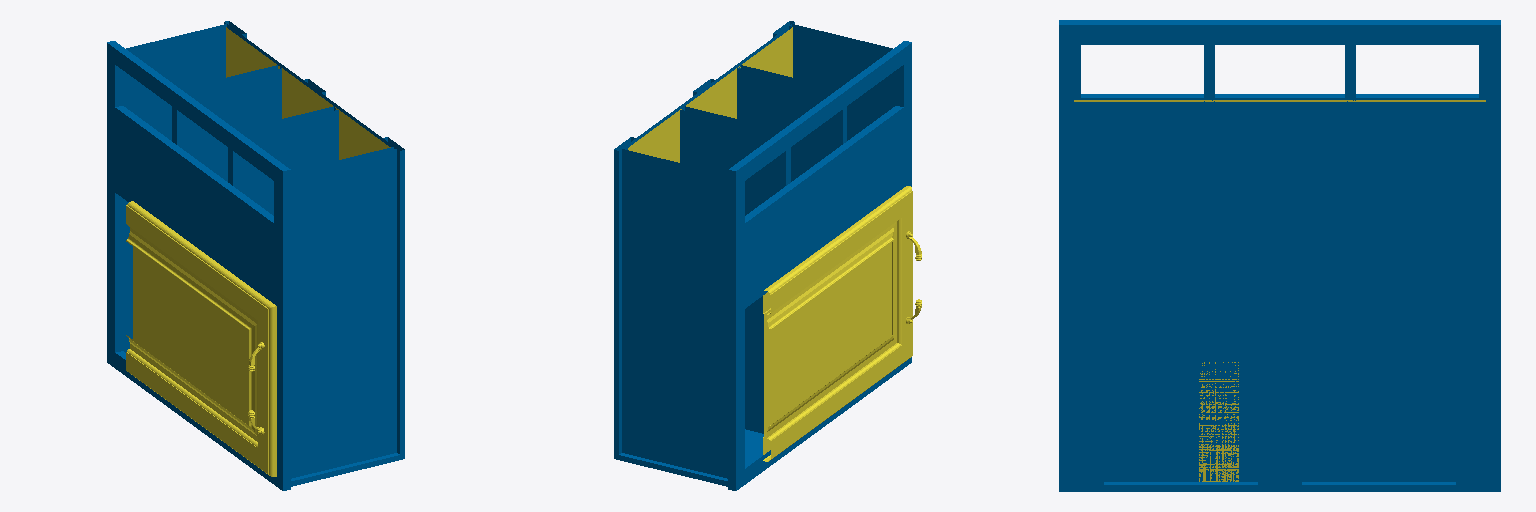
URDF robot description (partnet_12b0773858754105c59350d819542ec7):
<?xml version='1.0' encoding='us-ascii'?>
<robot name="partnet_12b0773858754105c59350d819542ec7">
	<link name="base" />
	<link name="link_0">
		<visual name="cabinet_door_surface-23">
			<origin xyz="-0.47700135126485127 -0.41883869171142574 -0.23243793422609332" />
			<geometry>
				<mesh filename="textured_objs/original-63.obj" scale="0.7 0.7 0.7" />
			</geometry>
		</visual>
		<visual name="cabinet_door_surface-23">
			<origin xyz="-0.47700135126485127 -0.41883869171142574 -0.23243793422609332" />
			<geometry>
				<mesh filename="textured_objs/original-58.obj" scale="0.7 0.7 0.7" />
			</geometry>
		</visual>
		<visual name="cabinet_door_surface-23">
			<origin xyz="-0.47700135126485127 -0.41883869171142574 -0.23243793422609332" />
			<geometry>
				<mesh filename="textured_objs/original-60.obj" scale="0.7 0.7 0.7" />
			</geometry>
		</visual>
		<visual name="cabinet_door_surface-23">
			<origin xyz="-0.47700135126485127 -0.41883869171142574 -0.23243793422609332" />
			<geometry>
				<mesh filename="textured_objs/original-59.obj" scale="0.7 0.7 0.7" />
			</geometry>
		</visual>
		<visual name="cabinet_door_surface-23">
			<origin xyz="-0.47700135126485127 -0.41883869171142574 -0.23243793422609332" />
			<geometry>
				<mesh filename="textured_objs/original-61.obj" scale="0.7 0.7 0.7" />
			</geometry>
		</visual>
		<visual name="cabinet_door_surface-23">
			<origin xyz="-0.47700135126485127 -0.41883869171142574 -0.23243793422609332" />
			<geometry>
				<mesh filename="textured_objs/original-64.obj" scale="0.7 0.7 0.7" />
			</geometry>
		</visual>
		<visual name="handle-24">
			<origin xyz="-0.47700135126485127 -0.41883869171142574 -0.23243793422609332" />
			<geometry>
				<mesh filename="textured_objs/original-68.obj" scale="0.7 0.7 0.7" />
			</geometry>
		</visual>
		<visual name="handle-24">
			<origin xyz="-0.47700135126485127 -0.41883869171142574 -0.23243793422609332" />
			<geometry>
				<mesh filename="textured_objs/original-67.obj" scale="0.7 0.7 0.7" />
			</geometry>
		</visual>
		<visual name="handle-24">
			<origin xyz="-0.47700135126485127 -0.41883869171142574 -0.23243793422609332" />
			<geometry>
				<mesh filename="textured_objs/original-66.obj" scale="0.7 0.7 0.7" />
			</geometry>
		</visual>
		<collision>
			<origin xyz="-0.47700135126485127 -0.41883869171142574 -0.23243793422609332" />
			<geometry>
				<mesh filename="textured_objs/original-63.obj" scale="0.7 0.7 0.7" />
			</geometry>
		</collision>
		<collision>
			<origin xyz="-0.47700135126485127 -0.41883869171142574 -0.23243793422609332" />
			<geometry>
				<mesh filename="textured_objs/original-58.obj" scale="0.7 0.7 0.7" />
			</geometry>
		</collision>
		<collision>
			<origin xyz="-0.47700135126485127 -0.41883869171142574 -0.23243793422609332" />
			<geometry>
				<mesh filename="textured_objs/original-60.obj" scale="0.7 0.7 0.7" />
			</geometry>
		</collision>
		<collision>
			<origin xyz="-0.47700135126485127 -0.41883869171142574 -0.23243793422609332" />
			<geometry>
				<mesh filename="textured_objs/original-59.obj" scale="0.7 0.7 0.7" />
			</geometry>
		</collision>
		<collision>
			<origin xyz="-0.47700135126485127 -0.41883869171142574 -0.23243793422609332" />
			<geometry>
				<mesh filename="textured_objs/original-61.obj" scale="0.7 0.7 0.7" />
			</geometry>
		</collision>
		<collision>
			<origin xyz="-0.47700135126485127 -0.41883869171142574 -0.23243793422609332" />
			<geometry>
				<mesh filename="textured_objs/original-64.obj" scale="0.7 0.7 0.7" />
			</geometry>
		</collision>
		<collision>
			<origin xyz="-0.47700135126485127 -0.41883869171142574 -0.23243793422609332" />
			<geometry>
				<mesh filename="textured_objs/original-68.obj" scale="0.7 0.7 0.7" />
			</geometry>
		</collision>
		<collision>
			<origin xyz="-0.47700135126485127 -0.41883869171142574 -0.23243793422609332" />
			<geometry>
				<mesh filename="textured_objs/original-67.obj" scale="0.7 0.7 0.7" />
			</geometry>
		</collision>
		<collision>
			<origin xyz="-0.47700135126485127 -0.41883869171142574 -0.23243793422609332" />
			<geometry>
				<mesh filename="textured_objs/original-66.obj" scale="0.7 0.7 0.7" />
			</geometry>
		</collision>
	</link>
	<joint name="joint_0" type="revolute">
		<origin xyz="0.47700135126485127 0.41883869171142574 0.23243793422609332" />
		<axis xyz="0 1 0" />
		<child link="link_0" />
		<parent link="link_3" />
		<limit lower="0.0" upper="1.5707963267948966" />
	</joint>
	<link name="link_1">
		<visual name="cabinet_door_surface-21">
			<origin xyz="0.4685833345236865 -0.41883869171142574 -0.23433912879830607" />
			<geometry>
				<mesh filename="textured_objs/original-52.obj" scale="0.7 0.7 0.7" />
			</geometry>
		</visual>
		<visual name="cabinet_door_surface-21">
			<origin xyz="0.4685833345236865 -0.41883869171142574 -0.23433912879830607" />
			<geometry>
				<mesh filename="textured_objs/original-46.obj" scale="0.7 0.7 0.7" />
			</geometry>
		</visual>
		<visual name="cabinet_door_surface-21">
			<origin xyz="0.4685833345236865 -0.41883869171142574 -0.23433912879830607" />
			<geometry>
				<mesh filename="textured_objs/original-49.obj" scale="0.7 0.7 0.7" />
			</geometry>
		</visual>
		<visual name="cabinet_door_surface-21">
			<origin xyz="0.4685833345236865 -0.41883869171142574 -0.23433912879830607" />
			<geometry>
				<mesh filename="textured_objs/original-48.obj" scale="0.7 0.7 0.7" />
			</geometry>
		</visual>
		<visual name="cabinet_door_surface-21">
			<origin xyz="0.4685833345236865 -0.41883869171142574 -0.23433912879830607" />
			<geometry>
				<mesh filename="textured_objs/original-47.obj" scale="0.7 0.7 0.7" />
			</geometry>
		</visual>
		<visual name="cabinet_door_surface-21">
			<origin xyz="0.4685833345236865 -0.41883869171142574 -0.23433912879830607" />
			<geometry>
				<mesh filename="textured_objs/original-51.obj" scale="0.7 0.7 0.7" />
			</geometry>
		</visual>
		<visual name="handle-22">
			<origin xyz="0.4685833345236865 -0.41883869171142574 -0.23433912879830607" />
			<geometry>
				<mesh filename="textured_objs/original-54.obj" scale="0.7 0.7 0.7" />
			</geometry>
		</visual>
		<visual name="handle-22">
			<origin xyz="0.4685833345236865 -0.41883869171142574 -0.23433912879830607" />
			<geometry>
				<mesh filename="textured_objs/original-56.obj" scale="0.7 0.7 0.7" />
			</geometry>
		</visual>
		<visual name="handle-22">
			<origin xyz="0.4685833345236865 -0.41883869171142574 -0.23433912879830607" />
			<geometry>
				<mesh filename="textured_objs/original-55.obj" scale="0.7 0.7 0.7" />
			</geometry>
		</visual>
		<collision>
			<origin xyz="0.4685833345236865 -0.41883869171142574 -0.23433912879830607" />
			<geometry>
				<mesh filename="textured_objs/original-52.obj" scale="0.7 0.7 0.7" />
			</geometry>
		</collision>
		<collision>
			<origin xyz="0.4685833345236865 -0.41883869171142574 -0.23433912879830607" />
			<geometry>
				<mesh filename="textured_objs/original-46.obj" scale="0.7 0.7 0.7" />
			</geometry>
		</collision>
		<collision>
			<origin xyz="0.4685833345236865 -0.41883869171142574 -0.23433912879830607" />
			<geometry>
				<mesh filename="textured_objs/original-49.obj" scale="0.7 0.7 0.7" />
			</geometry>
		</collision>
		<collision>
			<origin xyz="0.4685833345236865 -0.41883869171142574 -0.23433912879830607" />
			<geometry>
				<mesh filename="textured_objs/original-48.obj" scale="0.7 0.7 0.7" />
			</geometry>
		</collision>
		<collision>
			<origin xyz="0.4685833345236865 -0.41883869171142574 -0.23433912879830607" />
			<geometry>
				<mesh filename="textured_objs/original-47.obj" scale="0.7 0.7 0.7" />
			</geometry>
		</collision>
		<collision>
			<origin xyz="0.4685833345236865 -0.41883869171142574 -0.23433912879830607" />
			<geometry>
				<mesh filename="textured_objs/original-51.obj" scale="0.7 0.7 0.7" />
			</geometry>
		</collision>
		<collision>
			<origin xyz="0.4685833345236865 -0.41883869171142574 -0.23433912879830607" />
			<geometry>
				<mesh filename="textured_objs/original-54.obj" scale="0.7 0.7 0.7" />
			</geometry>
		</collision>
		<collision>
			<origin xyz="0.4685833345236865 -0.41883869171142574 -0.23433912879830607" />
			<geometry>
				<mesh filename="textured_objs/original-56.obj" scale="0.7 0.7 0.7" />
			</geometry>
		</collision>
		<collision>
			<origin xyz="0.4685833345236865 -0.41883869171142574 -0.23433912879830607" />
			<geometry>
				<mesh filename="textured_objs/original-55.obj" scale="0.7 0.7 0.7" />
			</geometry>
		</collision>
	</link>
	<joint name="joint_1" type="fixed">
		<origin xyz="-0.4685833345236865 0.41883869171142574 0.23433912879830607" />
		<axis xyz="0 -1 0" />
		<child link="link_1" />
		<parent link="link_3" />
		<limit lower="-0.0" upper="1.5707963267948966" />
	</joint>
	<link name="link_2">
		<visual name="drawer_front-16">
			<origin xyz="-0.0063081642860962125 -0.33678364788643395 0.23144379854202268" />
			<geometry>
				<mesh filename="textured_objs/original-34.obj" scale="0.7 0.7 0.7" />
			</geometry>
		</visual>
		<visual name="drawer_front-16">
			<origin xyz="-0.0063081642860962125 -0.33678364788643395 0.23144379854202268" />
			<geometry>
				<mesh filename="textured_objs/original-40.obj" scale="0.7 0.7 0.7" />
			</geometry>
		</visual>
		<visual name="drawer_front-16">
			<origin xyz="-0.0063081642860962125 -0.33678364788643395 0.23144379854202268" />
			<geometry>
				<mesh filename="textured_objs/original-37.obj" scale="0.7 0.7 0.7" />
			</geometry>
		</visual>
		<visual name="drawer_front-16">
			<origin xyz="-0.0063081642860962125 -0.33678364788643395 0.23144379854202268" />
			<geometry>
				<mesh filename="textured_objs/original-35.obj" scale="0.7 0.7 0.7" />
			</geometry>
		</visual>
		<visual name="drawer_front-16">
			<origin xyz="-0.0063081642860962125 -0.33678364788643395 0.23144379854202268" />
			<geometry>
				<mesh filename="textured_objs/original-7.obj" scale="0.7 0.7 0.7" />
			</geometry>
		</visual>
		<visual name="drawer_front-16">
			<origin xyz="-0.0063081642860962125 -0.33678364788643395 0.23144379854202268" />
			<geometry>
				<mesh filename="textured_objs/original-26.obj" scale="0.7 0.7 0.7" />
			</geometry>
		</visual>
		<visual name="drawer_front-16">
			<origin xyz="-0.0063081642860962125 -0.33678364788643395 0.23144379854202268" />
			<geometry>
				<mesh filename="textured_objs/original-39.obj" scale="0.7 0.7 0.7" />
			</geometry>
		</visual>
		<visual name="drawer_front-16">
			<origin xyz="-0.0063081642860962125 -0.33678364788643395 0.23144379854202268" />
			<geometry>
				<mesh filename="textured_objs/original-36.obj" scale="0.7 0.7 0.7" />
			</geometry>
		</visual>
		<visual name="drawer_side-17">
			<origin xyz="-0.0063081642860962125 -0.33678364788643395 0.23144379854202268" />
			<geometry>
				<mesh filename="textured_objs/original-30.obj" scale="0.7 0.7 0.7" />
			</geometry>
		</visual>
		<visual name="drawer_side-17">
			<origin xyz="-0.0063081642860962125 -0.33678364788643395 0.23144379854202268" />
			<geometry>
				<mesh filename="textured_objs/original-32.obj" scale="0.7 0.7 0.7" />
			</geometry>
		</visual>
		<visual name="drawer_side-18">
			<origin xyz="-0.0063081642860962125 -0.33678364788643395 0.23144379854202268" />
			<geometry>
				<mesh filename="textured_objs/original-25.obj" scale="0.7 0.7 0.7" />
			</geometry>
		</visual>
		<visual name="drawer_back-19">
			<origin xyz="-0.0063081642860962125 -0.33678364788643395 0.23144379854202268" />
			<geometry>
				<mesh filename="textured_objs/original-31.obj" scale="0.7 0.7 0.7" />
			</geometry>
		</visual>
		<visual name="drawer_bottom-20">
			<origin xyz="-0.0063081642860962125 -0.33678364788643395 0.23144379854202268" />
			<geometry>
				<mesh filename="textured_objs/original-29.obj" scale="0.7 0.7 0.7" />
			</geometry>
		</visual>
		<visual name="drawer_bottom-20">
			<origin xyz="-0.0063081642860962125 -0.33678364788643395 0.23144379854202268" />
			<geometry>
				<mesh filename="textured_objs/original-28.obj" scale="0.7 0.7 0.7" />
			</geometry>
		</visual>
		<visual name="handle-15">
			<origin xyz="-0.0063081642860962125 -0.33678364788643395 0.23144379854202268" />
			<geometry>
				<mesh filename="textured_objs/original-42.obj" scale="0.7 0.7 0.7" />
			</geometry>
		</visual>
		<visual name="handle-15">
			<origin xyz="-0.0063081642860962125 -0.33678364788643395 0.23144379854202268" />
			<geometry>
				<mesh filename="textured_objs/original-43.obj" scale="0.7 0.7 0.7" />
			</geometry>
		</visual>
		<visual name="handle-15">
			<origin xyz="-0.0063081642860962125 -0.33678364788643395 0.23144379854202268" />
			<geometry>
				<mesh filename="textured_objs/original-44.obj" scale="0.7 0.7 0.7" />
			</geometry>
		</visual>
		<collision>
			<origin xyz="-0.0063081642860962125 -0.33678364788643395 0.23144379854202268" />
			<geometry>
				<mesh filename="textured_objs/original-34.obj" scale="0.7 0.7 0.7" />
			</geometry>
		</collision>
		<collision>
			<origin xyz="-0.0063081642860962125 -0.33678364788643395 0.23144379854202268" />
			<geometry>
				<mesh filename="textured_objs/original-40.obj" scale="0.7 0.7 0.7" />
			</geometry>
		</collision>
		<collision>
			<origin xyz="-0.0063081642860962125 -0.33678364788643395 0.23144379854202268" />
			<geometry>
				<mesh filename="textured_objs/original-37.obj" scale="0.7 0.7 0.7" />
			</geometry>
		</collision>
		<collision>
			<origin xyz="-0.0063081642860962125 -0.33678364788643395 0.23144379854202268" />
			<geometry>
				<mesh filename="textured_objs/original-35.obj" scale="0.7 0.7 0.7" />
			</geometry>
		</collision>
		<collision>
			<origin xyz="-0.0063081642860962125 -0.33678364788643395 0.23144379854202268" />
			<geometry>
				<mesh filename="textured_objs/original-7.obj" scale="0.7 0.7 0.7" />
			</geometry>
		</collision>
		<collision>
			<origin xyz="-0.0063081642860962125 -0.33678364788643395 0.23144379854202268" />
			<geometry>
				<mesh filename="textured_objs/original-26.obj" scale="0.7 0.7 0.7" />
			</geometry>
		</collision>
		<collision>
			<origin xyz="-0.0063081642860962125 -0.33678364788643395 0.23144379854202268" />
			<geometry>
				<mesh filename="textured_objs/original-39.obj" scale="0.7 0.7 0.7" />
			</geometry>
		</collision>
		<collision>
			<origin xyz="-0.0063081642860962125 -0.33678364788643395 0.23144379854202268" />
			<geometry>
				<mesh filename="textured_objs/original-36.obj" scale="0.7 0.7 0.7" />
			</geometry>
		</collision>
		<collision>
			<origin xyz="-0.0063081642860962125 -0.33678364788643395 0.23144379854202268" />
			<geometry>
				<mesh filename="textured_objs/original-30.obj" scale="0.7 0.7 0.7" />
			</geometry>
		</collision>
		<collision>
			<origin xyz="-0.0063081642860962125 -0.33678364788643395 0.23144379854202268" />
			<geometry>
				<mesh filename="textured_objs/original-32.obj" scale="0.7 0.7 0.7" />
			</geometry>
		</collision>
		<collision>
			<origin xyz="-0.0063081642860962125 -0.33678364788643395 0.23144379854202268" />
			<geometry>
				<mesh filename="textured_objs/original-25.obj" scale="0.7 0.7 0.7" />
			</geometry>
		</collision>
		<collision>
			<origin xyz="-0.0063081642860962125 -0.33678364788643395 0.23144379854202268" />
			<geometry>
				<mesh filename="textured_objs/original-31.obj" scale="0.7 0.7 0.7" />
			</geometry>
		</collision>
		<collision>
			<origin xyz="-0.0063081642860962125 -0.33678364788643395 0.23144379854202268" />
			<geometry>
				<mesh filename="textured_objs/original-29.obj" scale="0.7 0.7 0.7" />
			</geometry>
		</collision>
		<collision>
			<origin xyz="-0.0063081642860962125 -0.33678364788643395 0.23144379854202268" />
			<geometry>
				<mesh filename="textured_objs/original-28.obj" scale="0.7 0.7 0.7" />
			</geometry>
		</collision>
		<collision>
			<origin xyz="-0.0063081642860962125 -0.33678364788643395 0.23144379854202268" />
			<geometry>
				<mesh filename="textured_objs/original-42.obj" scale="0.7 0.7 0.7" />
			</geometry>
		</collision>
		<collision>
			<origin xyz="-0.0063081642860962125 -0.33678364788643395 0.23144379854202268" />
			<geometry>
				<mesh filename="textured_objs/original-43.obj" scale="0.7 0.7 0.7" />
			</geometry>
		</collision>
		<collision>
			<origin xyz="-0.0063081642860962125 -0.33678364788643395 0.23144379854202268" />
			<geometry>
				<mesh filename="textured_objs/original-44.obj" scale="0.7 0.7 0.7" />
			</geometry>
		</collision>
	</link>
	<joint name="joint_2" type="fixed">
		<origin xyz="0.0063081642860962125 0.33678364788643395 -0.23144379854202268" />
		<axis xyz="0 0 1" />
		<child link="link_2" />
		<parent link="link_3" />
		<limit lower="0" upper="0.43999999999999995" />
	</joint>
	<link name="link_3">
		<visual name="shelf-9">
			<origin xyz="0.0 0.0 0.0" />
			<geometry>
				<mesh filename="textured_objs/original-2.obj" scale="0.7 0.7 0.7" />
			</geometry>
		</visual>
		<visual name="vertical_side_panel-30">
			<origin xyz="0.0 0.0 0.0" />
			<geometry>
				<mesh filename="textured_objs/original-16.obj" scale="0.7 0.7 0.7" />
			</geometry>
		</visual>
		<visual name="vertical_side_panel-30">
			<origin xyz="0.0 0.0 0.0" />
			<geometry>
				<mesh filename="textured_objs/original-15.obj" scale="0.7 0.7 0.7" />
			</geometry>
		</visual>
		<visual name="vertical_side_panel-31">
			<origin xyz="0.0 0.0 0.0" />
			<geometry>
				<mesh filename="textured_objs/original-12.obj" scale="0.7 0.7 0.7" />
			</geometry>
		</visual>
		<visual name="vertical_side_panel-31">
			<origin xyz="0.0 0.0 0.0" />
			<geometry>
				<mesh filename="textured_objs/original-11.obj" scale="0.7 0.7 0.7" />
			</geometry>
		</visual>
		<visual name="back_panel-32">
			<origin xyz="0.0 0.0 0.0" />
			<geometry>
				<mesh filename="textured_objs/original-69.obj" scale="0.7 0.7 0.7" />
			</geometry>
		</visual>
		<visual name="back_panel-32">
			<origin xyz="0.0 0.0 0.0" />
			<geometry>
				<mesh filename="textured_objs/original-6.obj" scale="0.7 0.7 0.7" />
			</geometry>
		</visual>
		<visual name="bottom_panel-33">
			<origin xyz="0.0 0.0 0.0" />
			<geometry>
				<mesh filename="textured_objs/original-3.obj" scale="0.7 0.7 0.7" />
			</geometry>
		</visual>
		<visual name="frame_vertical_bar-34">
			<origin xyz="0.0 0.0 0.0" />
			<geometry>
				<mesh filename="textured_objs/original-8.obj" scale="0.7 0.7 0.7" />
			</geometry>
		</visual>
		<visual name="frame_vertical_bar-35">
			<origin xyz="0.0 0.0 0.0" />
			<geometry>
				<mesh filename="textured_objs/original-4.obj" scale="0.7 0.7 0.7" />
			</geometry>
		</visual>
		<visual name="frame_horizontal_bar-36">
			<origin xyz="0.0 0.0 0.0" />
			<geometry>
				<mesh filename="textured_objs/original-9.obj" scale="0.7 0.7 0.7" />
			</geometry>
		</visual>
		<visual name="frame_horizontal_bar-37">
			<origin xyz="0.0 0.0 0.0" />
			<geometry>
				<mesh filename="textured_objs/original-22.obj" scale="0.7 0.7 0.7" />
			</geometry>
		</visual>
		<visual name="frame_horizontal_bar-38">
			<origin xyz="0.0 0.0 0.0" />
			<geometry>
				<mesh filename="textured_objs/original-21.obj" scale="0.7 0.7 0.7" />
			</geometry>
		</visual>
		<visual name="frame_horizontal_bar-39">
			<origin xyz="0.0 0.0 0.0" />
			<geometry>
				<mesh filename="textured_objs/original-5.obj" scale="0.7 0.7 0.7" />
			</geometry>
		</visual>
		<visual name="frame_horizontal_bar-40">
			<origin xyz="0.0 0.0 0.0" />
			<geometry>
				<mesh filename="textured_objs/original-18.obj" scale="0.7 0.7 0.7" />
			</geometry>
		</visual>
		<visual name="base_side_panel-26">
			<origin xyz="0.0 0.0 0.0" />
			<geometry>
				<mesh filename="textured_objs/original-19.obj" scale="0.7 0.7 0.7" />
			</geometry>
		</visual>
		<visual name="base_side_panel-27">
			<origin xyz="0.0 0.0 0.0" />
			<geometry>
				<mesh filename="textured_objs/original-13.obj" scale="0.7 0.7 0.7" />
			</geometry>
		</visual>
		<visual name="base_side_panel-28">
			<origin xyz="0.0 0.0 0.0" />
			<geometry>
				<mesh filename="textured_objs/original-20.obj" scale="0.7 0.7 0.7" />
			</geometry>
		</visual>
		<visual name="base_side_panel-29">
			<origin xyz="0.0 0.0 0.0" />
			<geometry>
				<mesh filename="textured_objs/original-17.obj" scale="0.7 0.7 0.7" />
			</geometry>
		</visual>
		<collision>
			<origin xyz="0.0 0.0 0.0" />
			<geometry>
				<mesh filename="textured_objs/original-2.obj" scale="0.7 0.7 0.7" />
			</geometry>
		</collision>
		<collision>
			<origin xyz="0.0 0.0 0.0" />
			<geometry>
				<mesh filename="textured_objs/original-16.obj" scale="0.7 0.7 0.7" />
			</geometry>
		</collision>
		<collision>
			<origin xyz="0.0 0.0 0.0" />
			<geometry>
				<mesh filename="textured_objs/original-15.obj" scale="0.7 0.7 0.7" />
			</geometry>
		</collision>
		<collision>
			<origin xyz="0.0 0.0 0.0" />
			<geometry>
				<mesh filename="textured_objs/original-12.obj" scale="0.7 0.7 0.7" />
			</geometry>
		</collision>
		<collision>
			<origin xyz="0.0 0.0 0.0" />
			<geometry>
				<mesh filename="textured_objs/original-11.obj" scale="0.7 0.7 0.7" />
			</geometry>
		</collision>
		<collision>
			<origin xyz="0.0 0.0 0.0" />
			<geometry>
				<mesh filename="textured_objs/original-69.obj" scale="0.7 0.7 0.7" />
			</geometry>
		</collision>
		<collision>
			<origin xyz="0.0 0.0 0.0" />
			<geometry>
				<mesh filename="textured_objs/original-6.obj" scale="0.7 0.7 0.7" />
			</geometry>
		</collision>
		<collision>
			<origin xyz="0.0 0.0 0.0" />
			<geometry>
				<mesh filename="textured_objs/original-3.obj" scale="0.7 0.7 0.7" />
			</geometry>
		</collision>
		<collision>
			<origin xyz="0.0 0.0 0.0" />
			<geometry>
				<mesh filename="textured_objs/original-8.obj" scale="0.7 0.7 0.7" />
			</geometry>
		</collision>
		<collision>
			<origin xyz="0.0 0.0 0.0" />
			<geometry>
				<mesh filename="textured_objs/original-4.obj" scale="0.7 0.7 0.7" />
			</geometry>
		</collision>
		<collision>
			<origin xyz="0.0 0.0 0.0" />
			<geometry>
				<mesh filename="textured_objs/original-9.obj" scale="0.7 0.7 0.7" />
			</geometry>
		</collision>
		<collision>
			<origin xyz="0.0 0.0 0.0" />
			<geometry>
				<mesh filename="textured_objs/original-22.obj" scale="0.7 0.7 0.7" />
			</geometry>
		</collision>
		<collision>
			<origin xyz="0.0 0.0 0.0" />
			<geometry>
				<mesh filename="textured_objs/original-21.obj" scale="0.7 0.7 0.7" />
			</geometry>
		</collision>
		<collision>
			<origin xyz="0.0 0.0 0.0" />
			<geometry>
				<mesh filename="textured_objs/original-5.obj" scale="0.7 0.7 0.7" />
			</geometry>
		</collision>
		<collision>
			<origin xyz="0.0 0.0 0.0" />
			<geometry>
				<mesh filename="textured_objs/original-18.obj" scale="0.7 0.7 0.7" />
			</geometry>
		</collision>
		<collision>
			<origin xyz="0.0 0.0 0.0" />
			<geometry>
				<mesh filename="textured_objs/original-19.obj" scale="0.7 0.7 0.7" />
			</geometry>
		</collision>
		<collision>
			<origin xyz="0.0 0.0 0.0" />
			<geometry>
				<mesh filename="textured_objs/original-13.obj" scale="0.7 0.7 0.7" />
			</geometry>
		</collision>
		<collision>
			<origin xyz="0.0 0.0 0.0" />
			<geometry>
				<mesh filename="textured_objs/original-20.obj" scale="0.7 0.7 0.7" />
			</geometry>
		</collision>
		<collision>
			<origin xyz="0.0 0.0 0.0" />
			<geometry>
				<mesh filename="textured_objs/original-17.obj" scale="0.7 0.7 0.7" />
			</geometry>
		</collision>
	</link>
	<joint name="joint_3" type="fixed">
		<origin rpy="1.570796326794897 0 -1.570796326794897" xyz="0.0 0.0 0.0" />
		<child link="link_3" />
		<parent link="base" />
	</joint>
</robot>

--- What the picture shows (computed from the rendered views, not written in the file) ---
The picture shows the robot from 3 angles, left to right: view 1: azimuth 30°, elevation 25°; view 2: azimuth 150°, elevation 25°; view 3: azimuth 270°, elevation 25°; orthographic projection.
Robot: partnet_12b0773858754105c59350d819542ec7 — 5 links, 4 joints (1 revolute, 3 fixed); root link base; default pose: all joints at 0.
Visible links, largest first — view 1: link_3, link_2; view 2: link_3, link_2; view 3: link_3, link_2.
Link boxes in pixels (x1,y1,x2,y2): link_3: [107, 21, 404, 490]; link_2: [126, 27, 390, 476]; link_3: [614, 21, 911, 490]; link_2: [628, 27, 921, 461]; link_3: [1059, 20, 1500, 491]; link_2: [1074, 100, 1485, 481].
Bounding box of the posed robot: 0.4643 × 0.984 × 0.984 m (x, y, z).
27 mesh visuals loaded from 54 distinct referenced files (27 OBJ); not drawn: 27 (reference not matched to a file when rendering).
